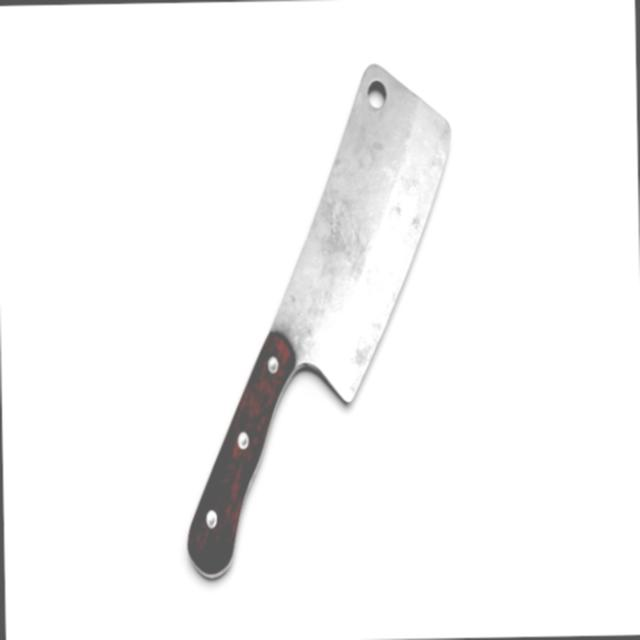cleaver: (179, 62, 457, 576)
